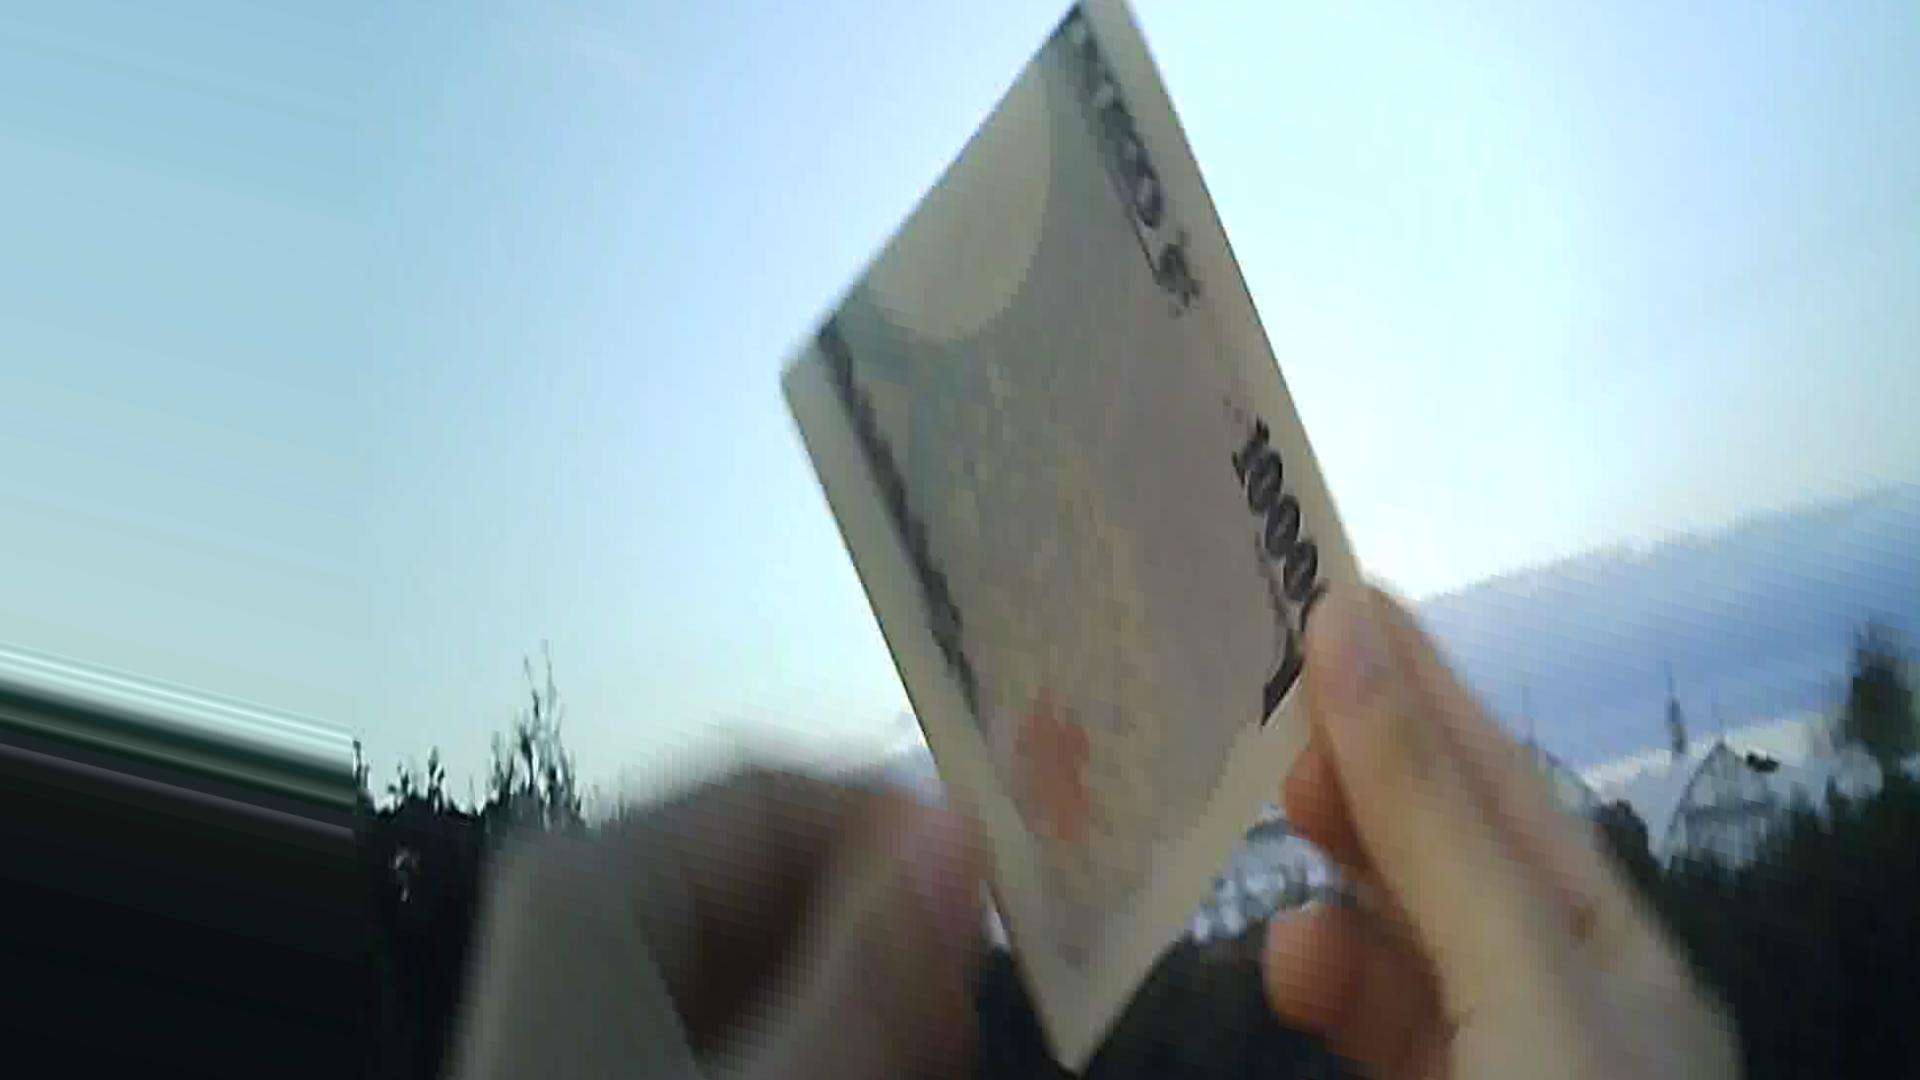10,000 Yen: (774, 1, 1342, 1047)
